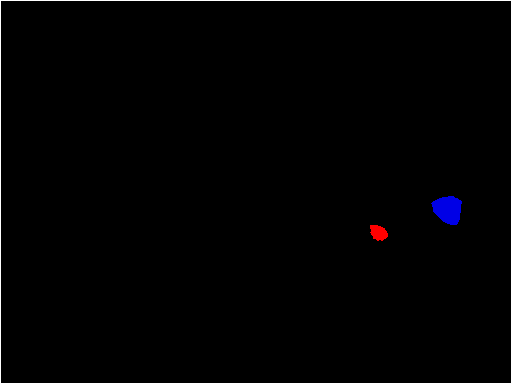chipped: (437, 197, 459, 218)
detached: (367, 223, 386, 238)
